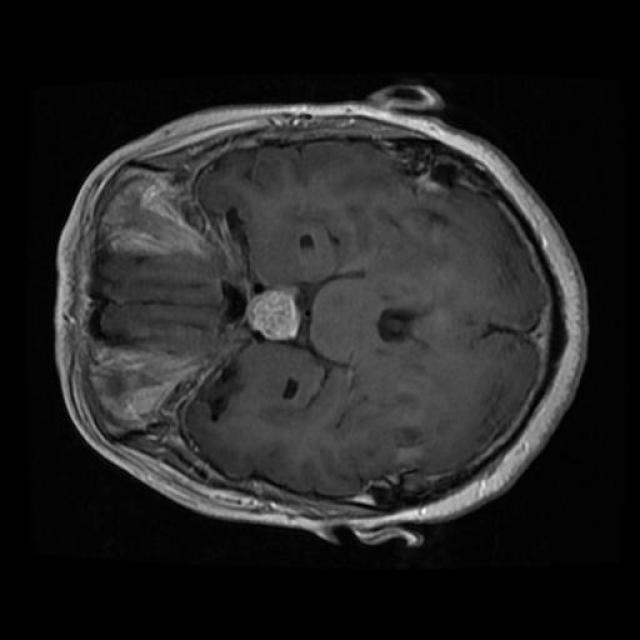Pituitary: (246, 288, 301, 341)
